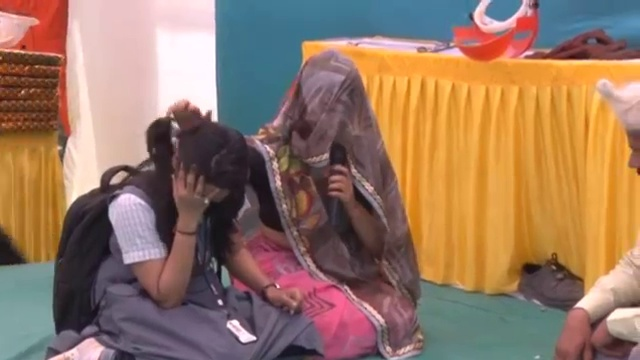helmet: (0, 10, 43, 51)
helmet_off: (158, 116, 253, 212), (284, 60, 370, 150), (590, 67, 640, 188)
person: (49, 101, 325, 360), (260, 61, 427, 351), (559, 69, 640, 358)
